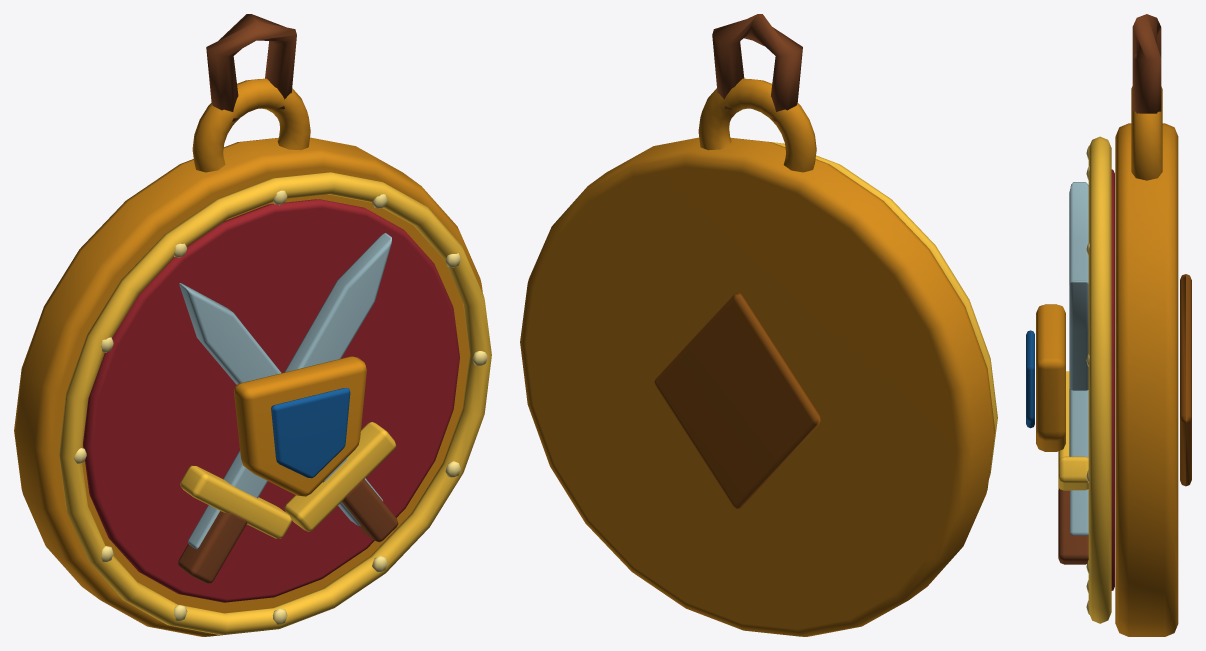
File: weapon_token.glb
3 renders of one model, left to right at view 1: azimuth 30°, elevation 25°; view 2: azimuth 150°, elevation 25°; view 3: azimuth 270°, elevation 25°, orthographic.
Visible parts, largest first — view 1: weapon_token_runtime; view 2: weapon_token_runtime; view 3: weapon_token_runtime.
Boxes of the visible parts, x1=… form: weapon_token_runtime: x1=14, y1=14, x2=491, y2=636; weapon_token_runtime: x1=520, y1=14, x2=997, y2=636; weapon_token_runtime: x1=1026, y1=14, x2=1191, y2=636.
Size of the model in its own units: 1.01 by 1.3 by 0.3256.
1 material, 1 textured.
